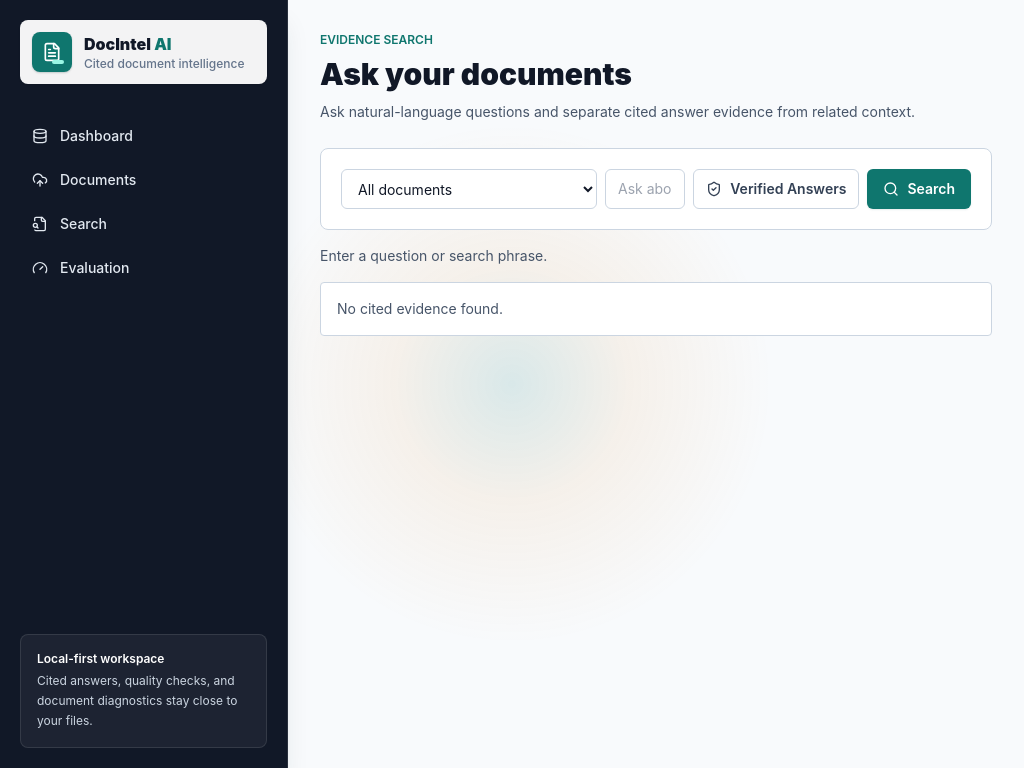
Test: SearchPage › clears previous search results when a subsequent search fails
Expected: the form named "Search query" is shown, [341,169,971,209]
Type "invoice total" into the field named "Search query" at (645,189), box [605,169,685,209]
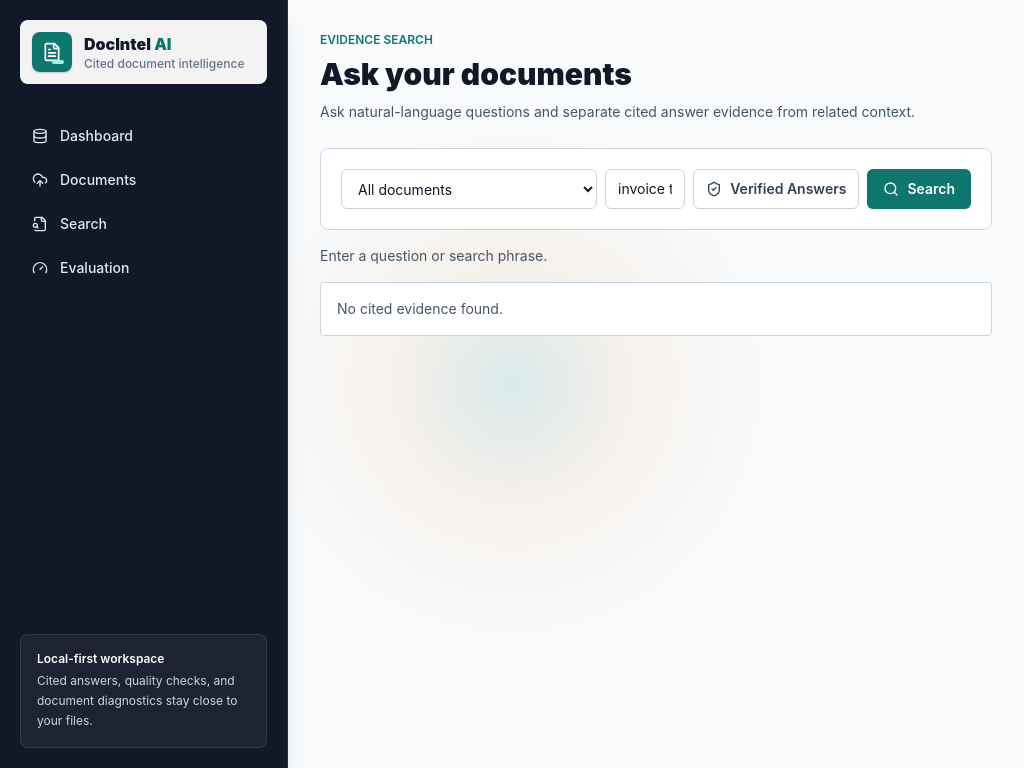
Submit the form named "Search query", box [341,169,971,209]
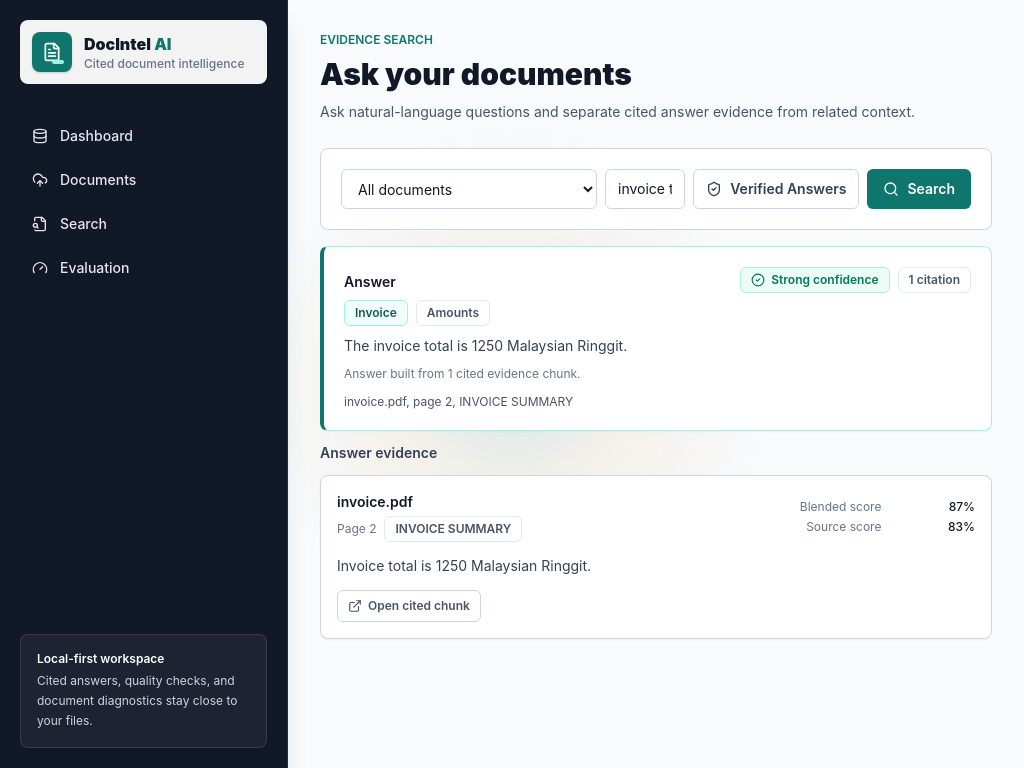
Expected: the text "The invoice total is 1250 Malaysian Ringgit." is shown, [344,337,627,354]
Replace the text in the field named "Search query" with "missing total" at (645,189), box [605,169,685,209]
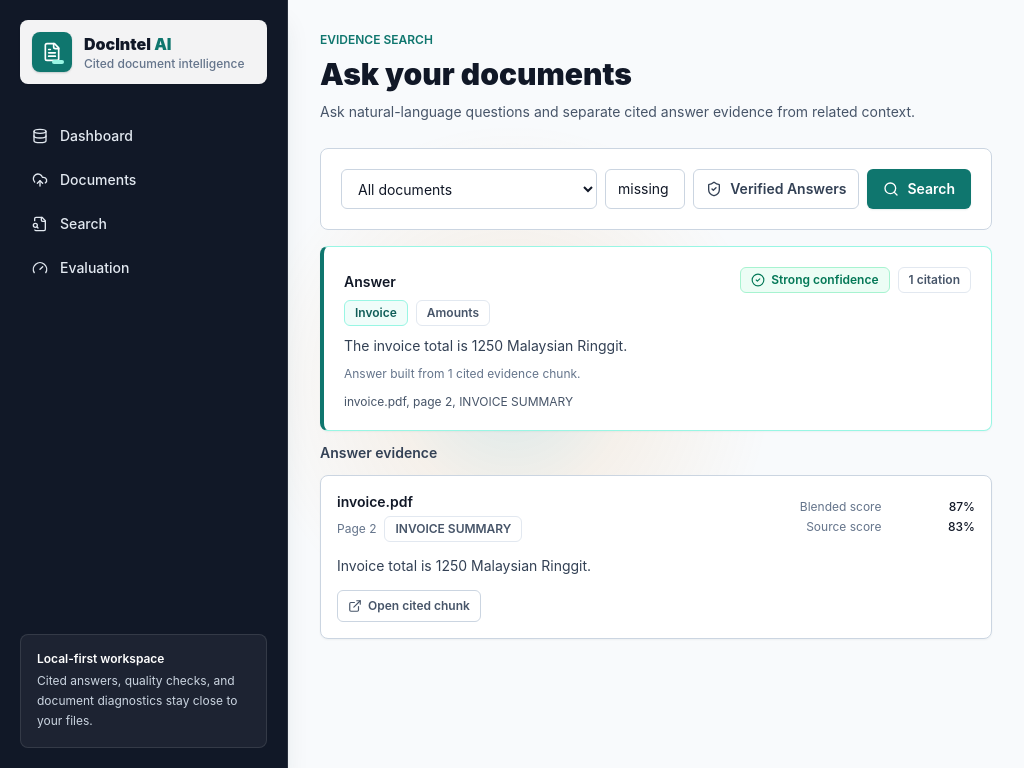
Submit the form named "Search query", box [341,169,971,209]
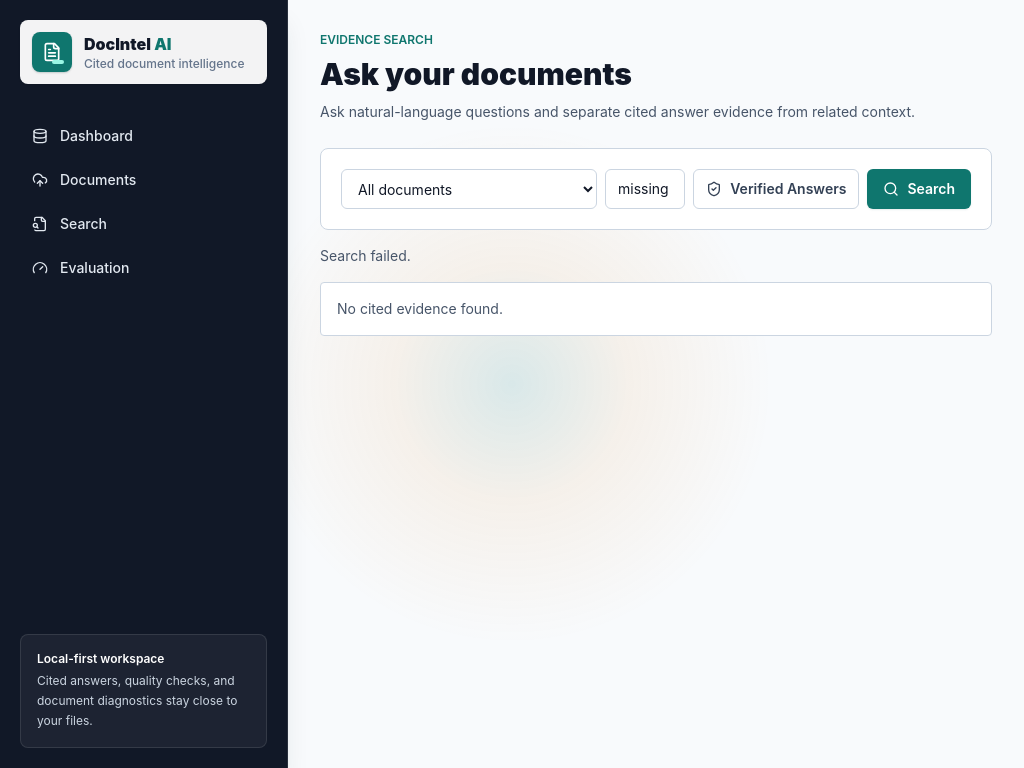
Expected: the text "Search failed." is shown, [320,247,411,264]
Expected: the text "The invoice total is 1250 Malaysian Ringgit." is gone
Expected: the text "invoice.pdf" is gone
